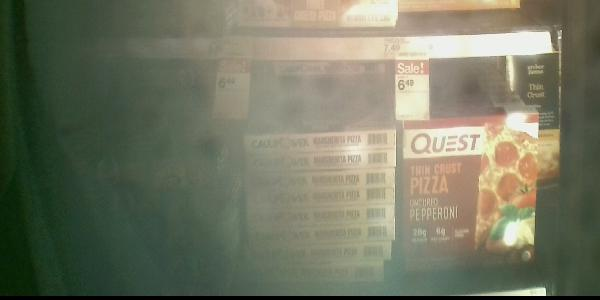pizza: (399, 116, 535, 264)
pizza1: (242, 128, 398, 151), (242, 167, 397, 189), (245, 189, 398, 206), (247, 209, 399, 226), (241, 151, 399, 167), (248, 248, 392, 264), (247, 229, 395, 244), (247, 265, 384, 280)
